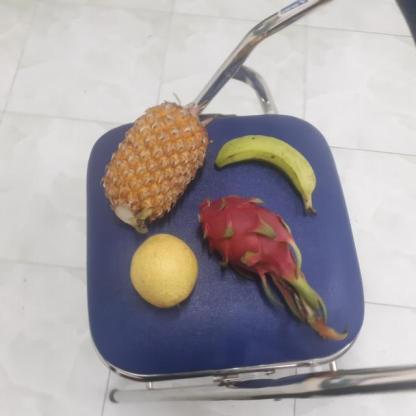banana: (209, 134, 316, 205)
guava: (125, 234, 199, 309)
pear: (126, 234, 200, 309)
pineapple: (98, 101, 209, 231)
pitaya: (191, 196, 302, 290)
